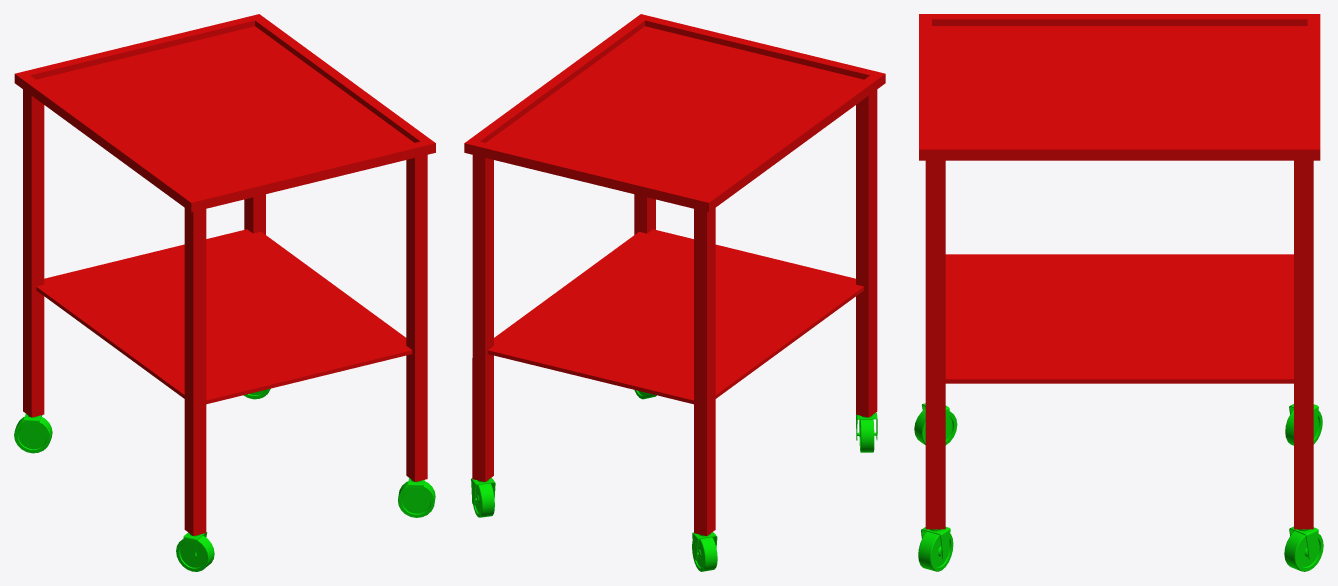
The model's file is FO_Trolley.fbx.
3 views of the same model, side by side, from view 1: azimuth 30°, elevation 25°; view 2: azimuth 150°, elevation 25°; view 3: azimuth 270°, elevation 25° (orthographic). The views are drawn at different scales.
Visible parts, largest first — view 1: structure, wheel3, wheel7, wheel6; view 2: structure, wheel7, wheel5, wheel6; view 3: structure, wheel5, wheel3, wheel6, wheel7.
Part boxes in pixels (<box>): structure: <box>14,14,435,535</box>; wheel3: <box>398,478,435,517</box>; wheel7: <box>14,414,52,453</box>; wheel6: <box>176,532,214,571</box>; structure: <box>464,14,885,536</box>; wheel7: <box>692,532,717,571</box>; wheel5: <box>471,477,495,517</box>; wheel6: <box>856,412,877,452</box>; structure: <box>919,14,1320,529</box>; wheel5: <box>1284,526,1323,571</box>; wheel3: <box>918,527,953,571</box>; wheel6: <box>914,403,957,445</box>; wheel7: <box>1285,404,1322,445</box>.
Size of the model in its own units: 0.3485 by 0.4919 by 0.4287.
